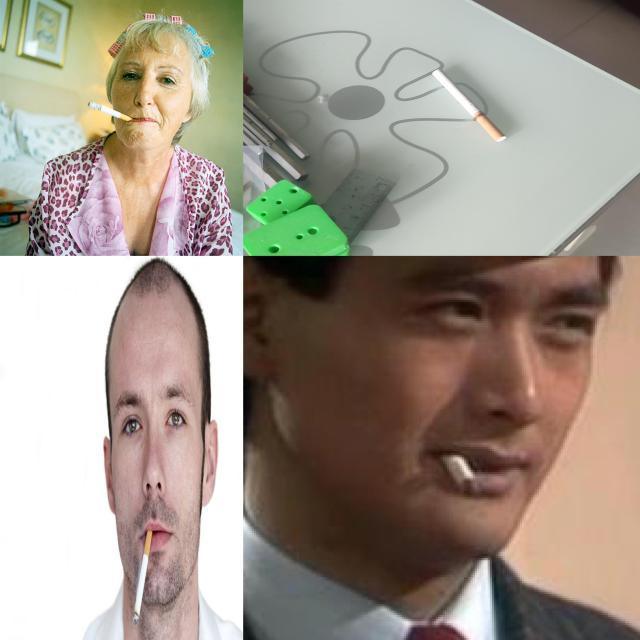smoking: (432, 68, 509, 144), (430, 446, 492, 499), (134, 528, 154, 628), (86, 98, 135, 125)
